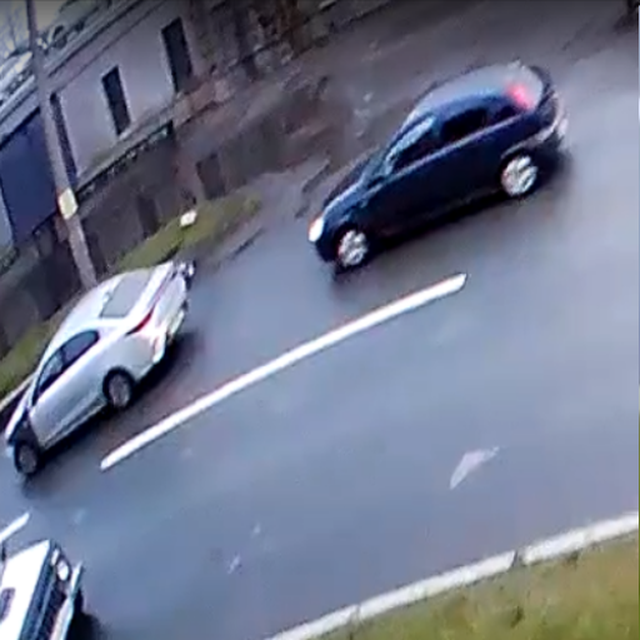car: (308, 60, 567, 269), (2, 263, 187, 475)
